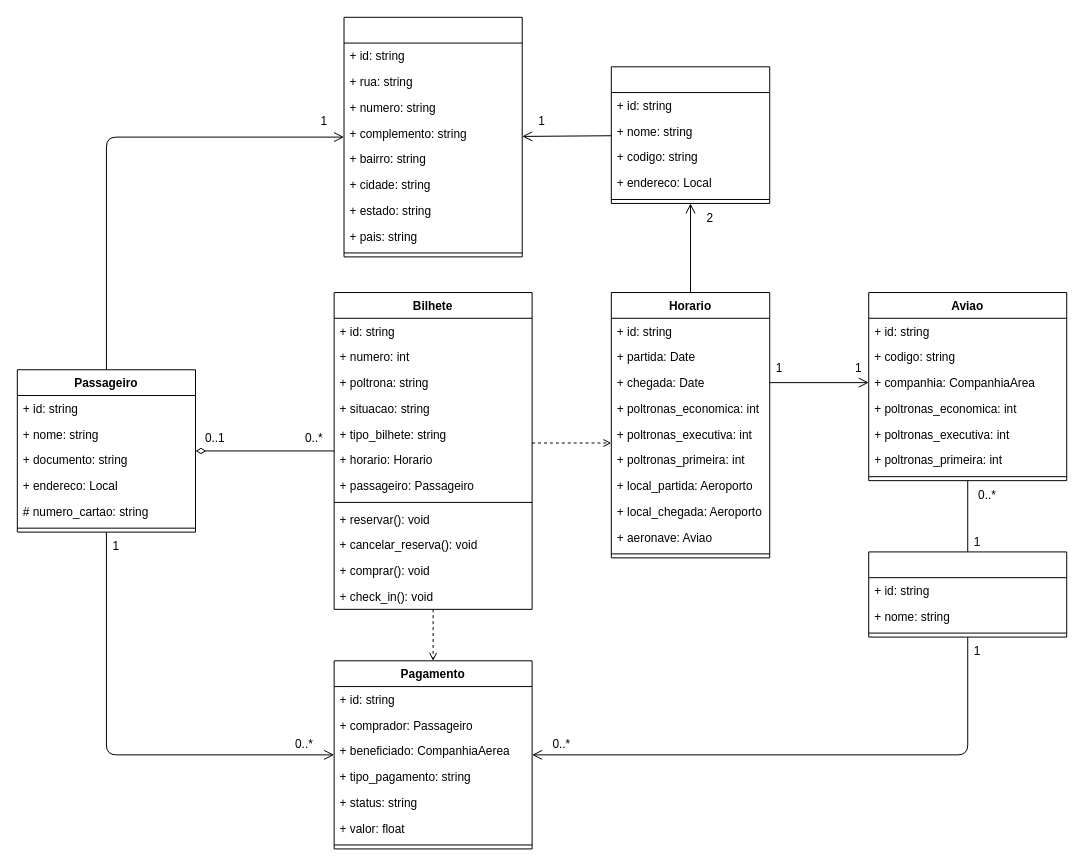
This 1084x866 diagram has some shape labels left out. Each missing label, with the box of its shape:
Aeroporto: (610, 66, 770, 203)
CompanhiaArea: (868, 551, 1067, 637)
Local: (343, 16, 522, 257)
